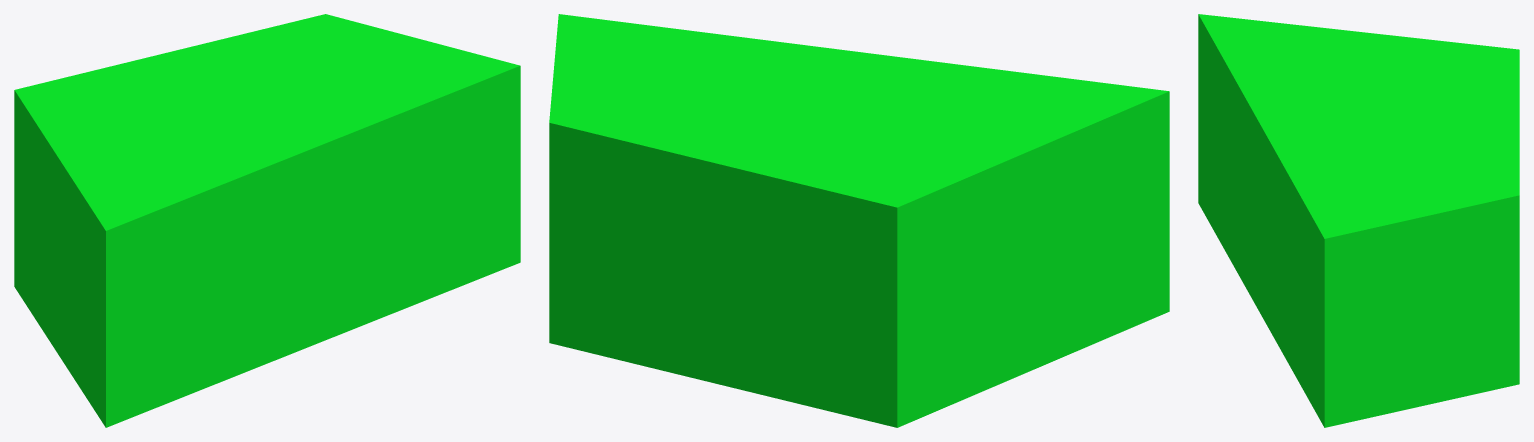
The model's file is ciervo3.glb.
3 views of the same model, side by side, from view 1: azimuth 30°, elevation 25°; view 2: azimuth 150°, elevation 25°; view 3: azimuth 270°, elevation 25° (orthographic). The views are drawn at different scales.
Parts seen in each view (by area): view 1: ciervo3; view 2: ciervo3; view 3: ciervo3.
Boxes of the visible parts, x1=… form: ciervo3: x1=14, y1=14, x2=520, y2=427; ciervo3: x1=549, y1=14, x2=1169, y2=427; ciervo3: x1=1198, y1=14, x2=1519, y2=427.
Size of the model in its own units: 0.7306 by 0.2862 by 0.4411.
